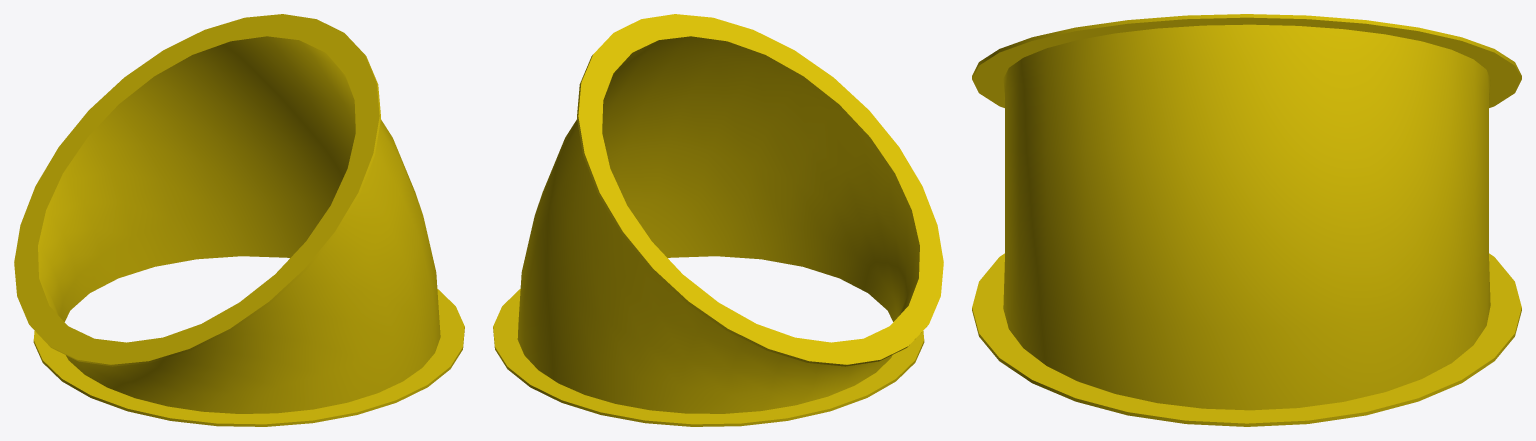
Rendered from model-curved-38.fbx.
3 renders of one model, left to right at view 1: azimuth 30°, elevation 25°; view 2: azimuth 150°, elevation 25°; view 3: azimuth 270°, elevation 25°, orthographic. The views are drawn at different scales.
Visible parts, largest first — view 1: dreje-38 model; view 2: dreje-38 model; view 3: dreje-38 model.
Boxes of the visible parts, <box> form: dreje-38 model: <box>14,14,464,426</box>; dreje-38 model: <box>493,14,943,426</box>; dreje-38 model: <box>972,14,1521,426</box>.
Bounding box in the file's own units: 90.99 × 62.85 × 88.
